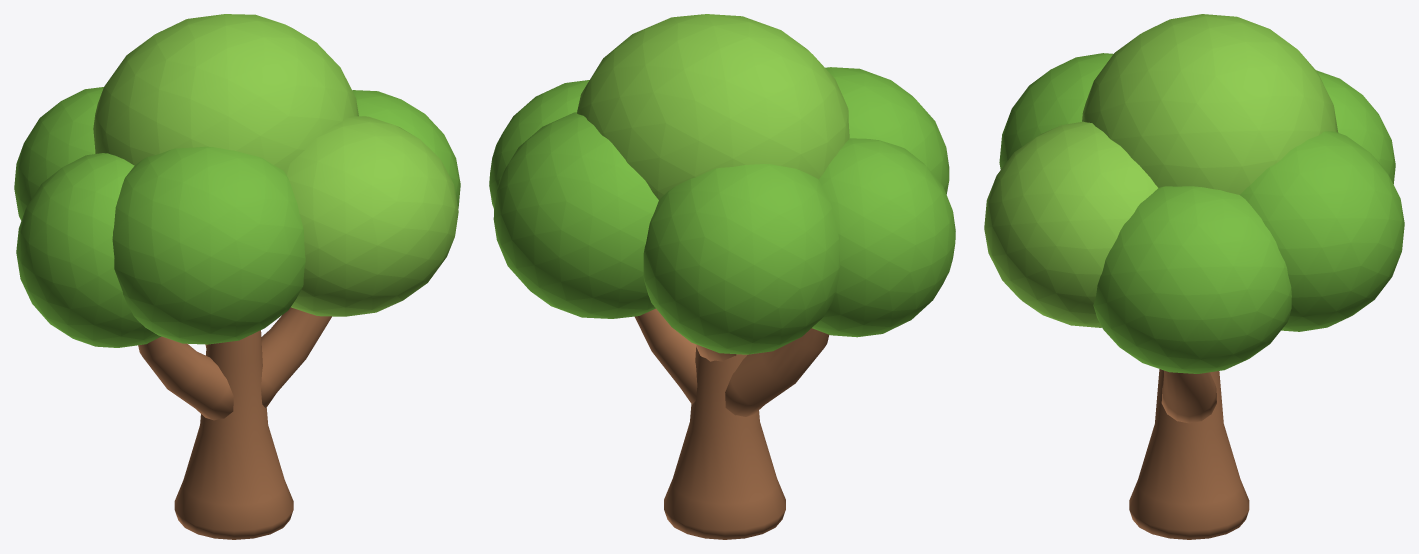
Rendered from deco-arbol.glb.
The picture shows the model from 3 angles, left to right: view 1: azimuth 30°, elevation 25°; view 2: azimuth 150°, elevation 25°; view 3: azimuth 270°, elevation 25°; orthographic projection. The views are drawn at different scales.
Visible parts, largest first — view 1: deco-arbol; view 2: deco-arbol; view 3: deco-arbol.
Part boxes in pixels (x1,y1,x2,y2): deco-arbol: [14, 14, 460, 539]; deco-arbol: [489, 14, 955, 539]; deco-arbol: [984, 14, 1404, 539].
Size of the model in its own units: 5.48 by 6 by 4.69.
